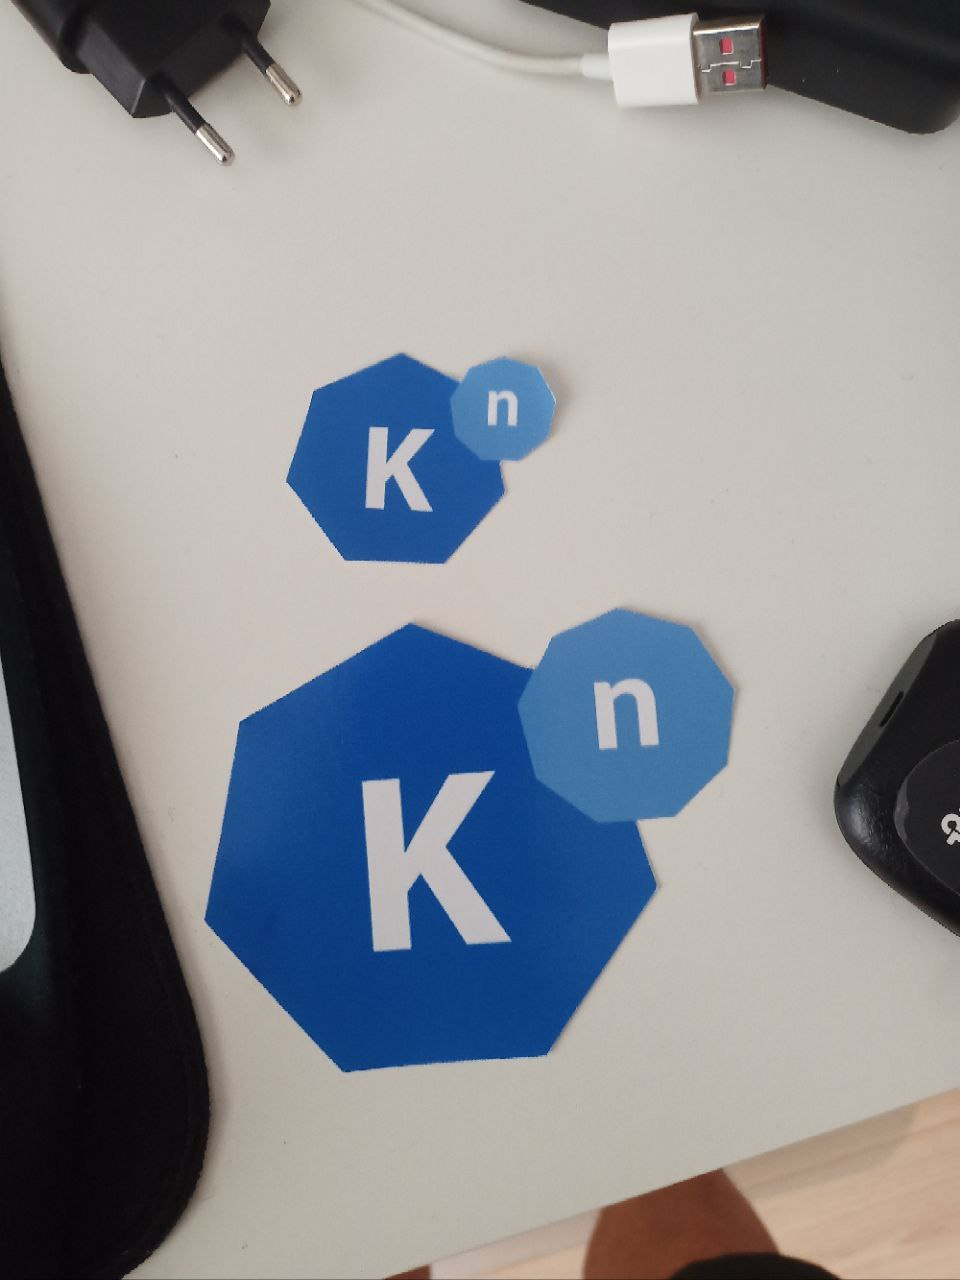knative: (203, 603, 741, 1073), (284, 350, 557, 566)
